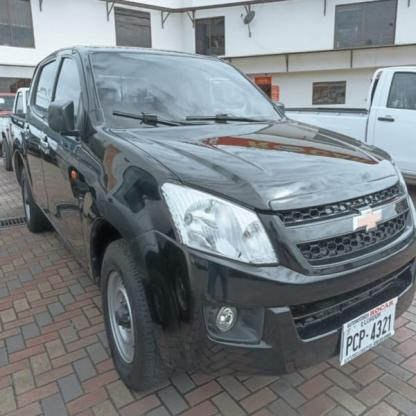Placa: (342, 296, 398, 372)
